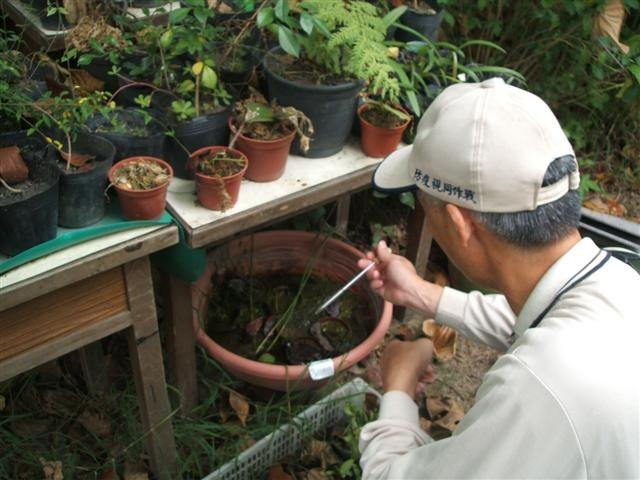bowl: (191, 229, 394, 392)
